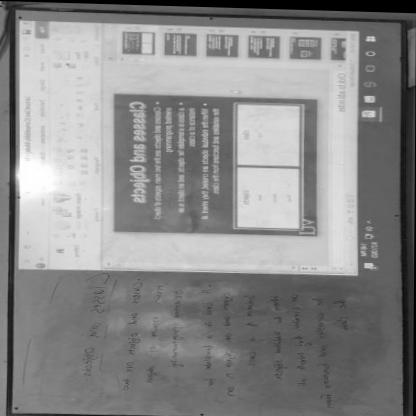Handwritten text: (303, 287, 342, 414), (69, 268, 113, 379), (111, 275, 149, 395), (282, 285, 315, 391), (256, 288, 291, 387), (142, 276, 169, 390), (217, 285, 242, 401), (194, 281, 219, 389), (161, 285, 188, 371), (239, 288, 262, 370), (325, 288, 360, 339)
Whiteboard: (10, 7, 409, 416)
